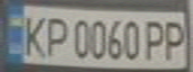0: (69, 16, 93, 60), (121, 17, 145, 61), (87, 16, 109, 61)
6: (106, 16, 127, 61)
K: (18, 10, 51, 57)
P: (157, 16, 193, 62), (139, 17, 172, 61), (39, 14, 72, 57)
